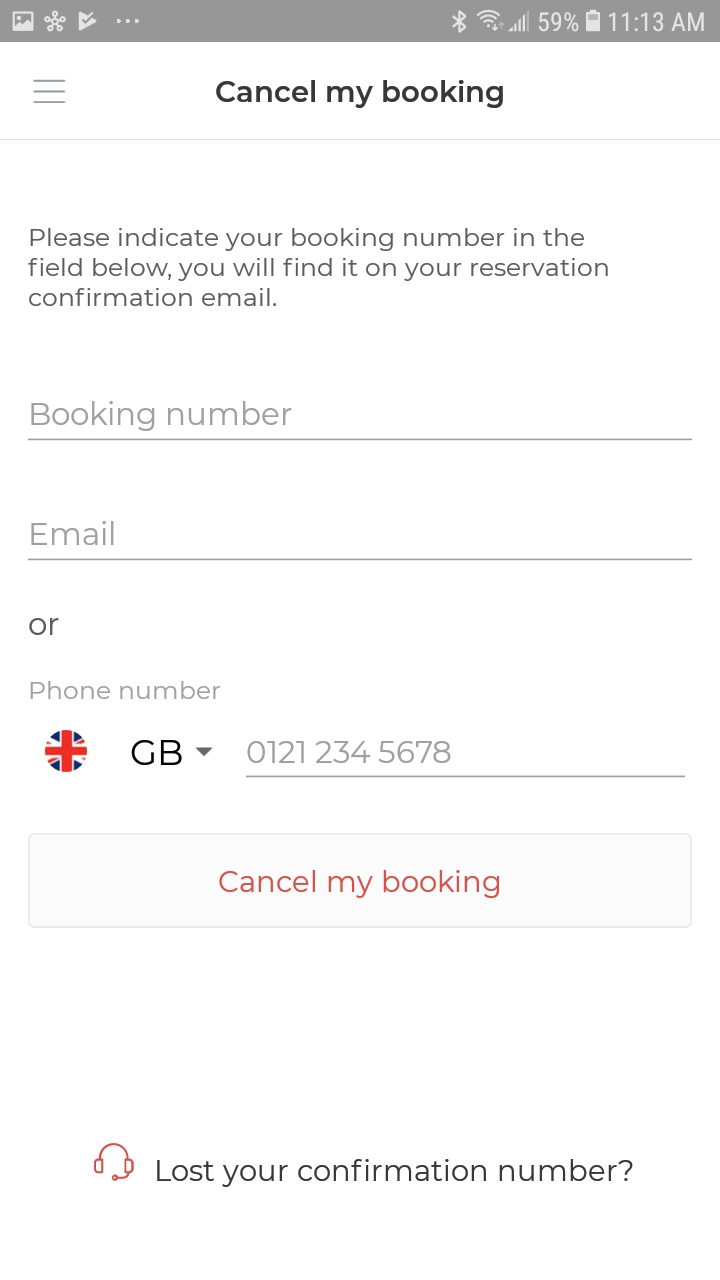EditText: (28, 521, 692, 562), (28, 401, 692, 442), (246, 741, 685, 779)
Icon: (33, 80, 67, 105), (196, 747, 213, 757)
Image: (44, 729, 88, 773), (95, 1143, 136, 1182)
Text: (28, 228, 609, 308), (157, 1158, 633, 1188), (216, 80, 504, 110), (31, 401, 292, 431), (248, 741, 451, 764), (31, 681, 221, 700), (32, 521, 116, 546), (132, 739, 183, 766), (29, 617, 60, 637)
TextButton: (28, 833, 693, 929)
UpperTaskBar: (1, 1, 720, 42)
